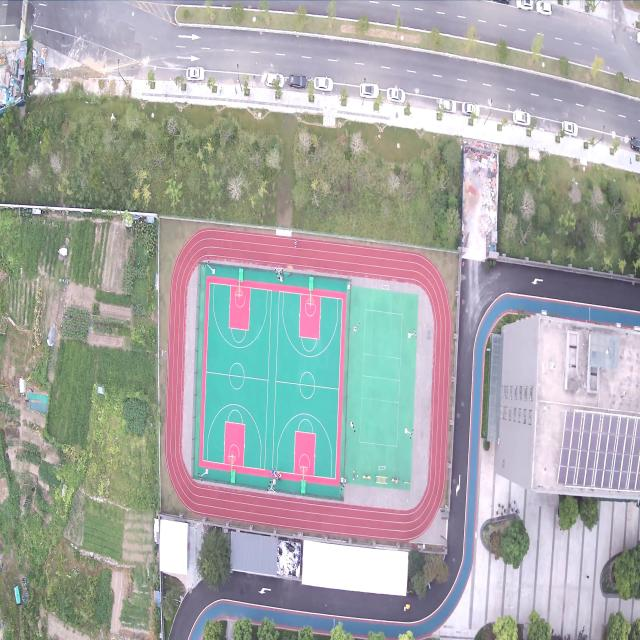UAV: (159, 347, 166, 359)
